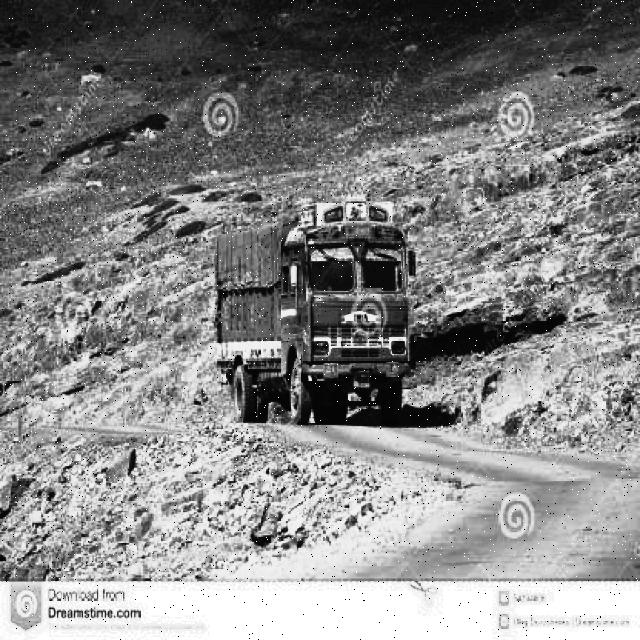HCV: (184, 204, 413, 413)
